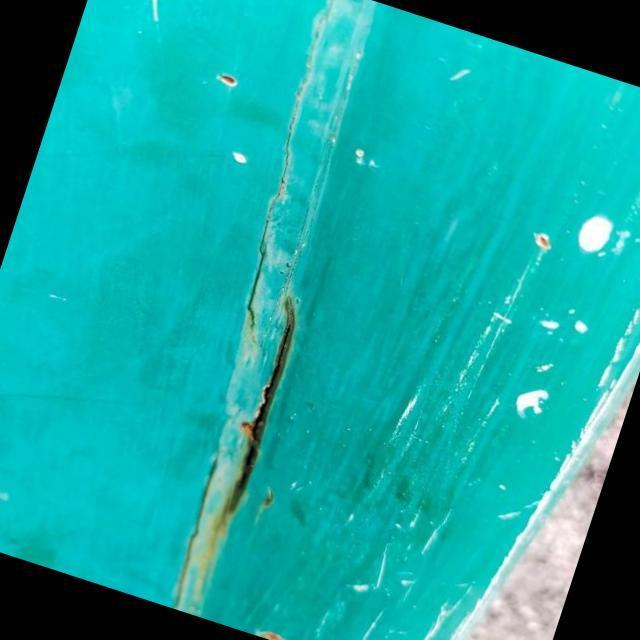defect: (244, 0, 339, 349), (224, 294, 299, 522)
